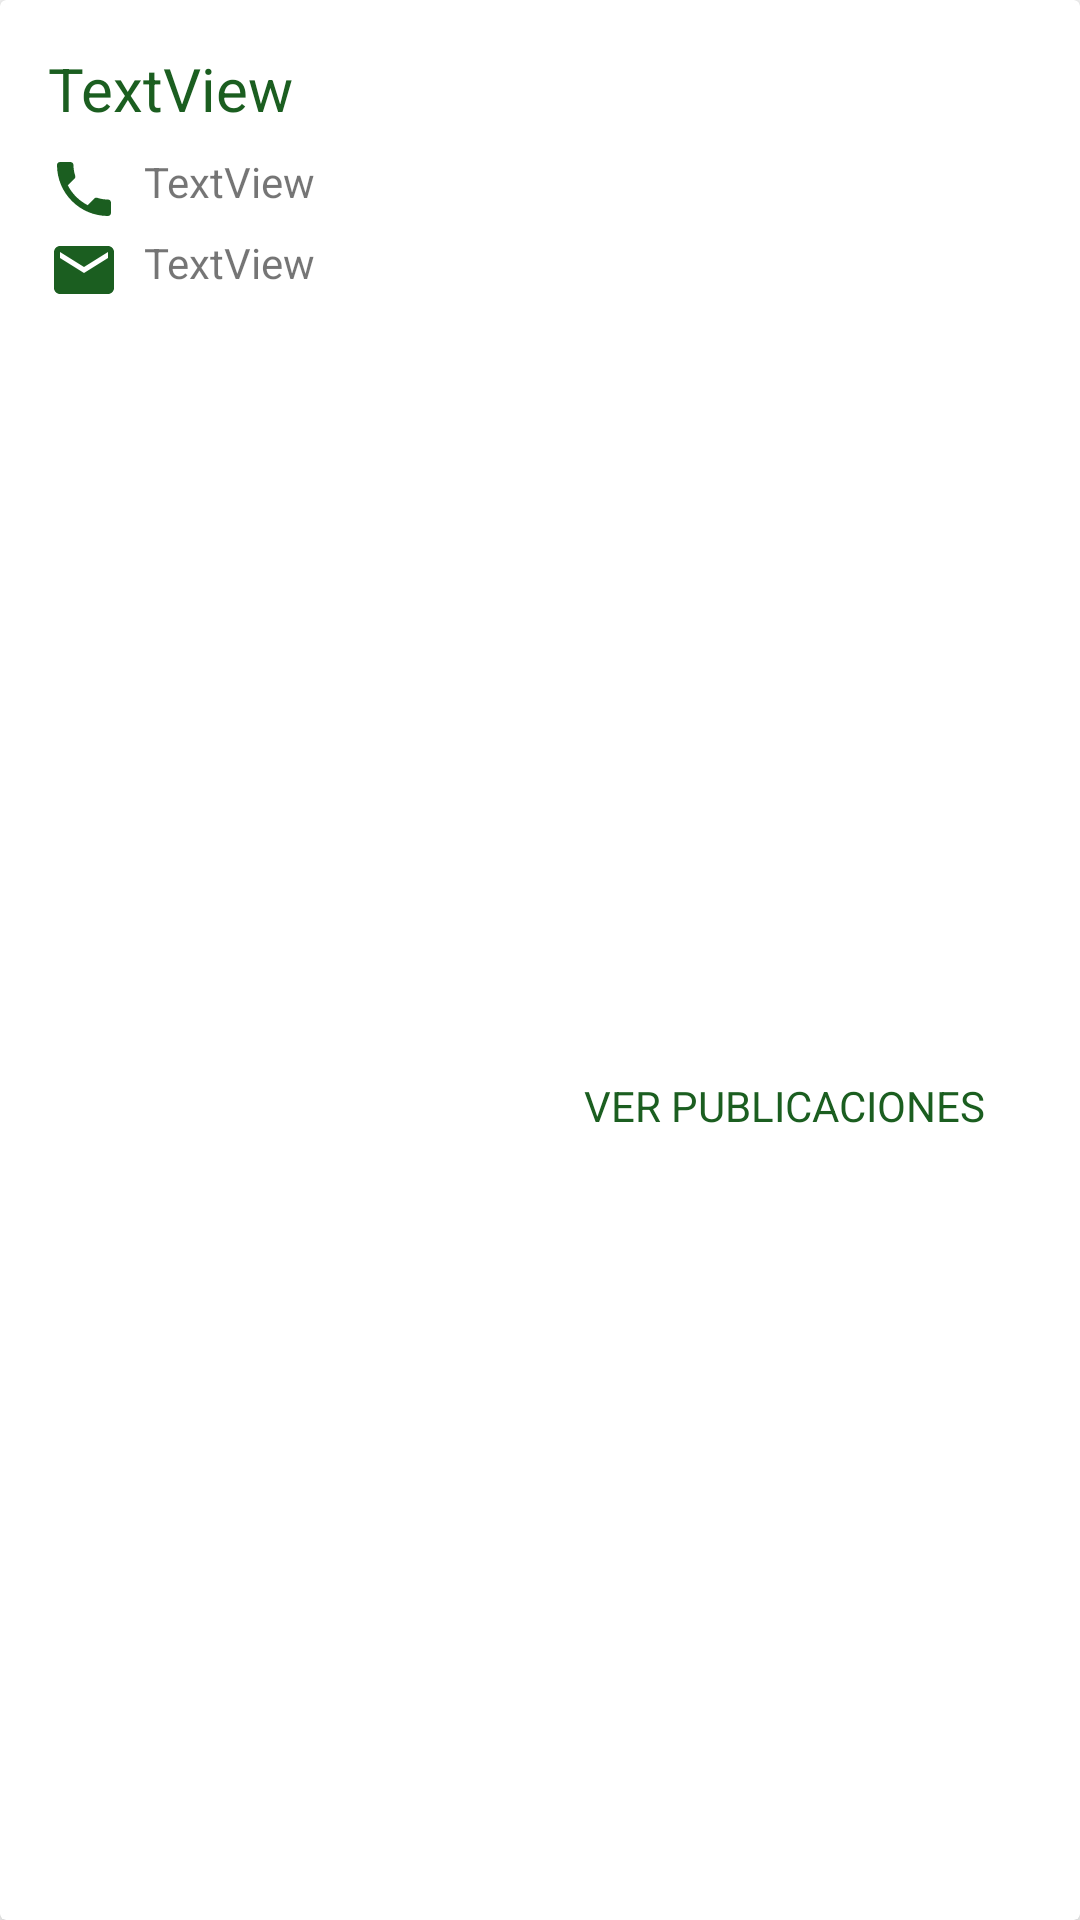

Icons on this 1080 x 1920 Android screen, each with its box as (x1, y1, x2, y2):
email: (54, 246, 114, 294)
phone: (57, 162, 111, 216)
